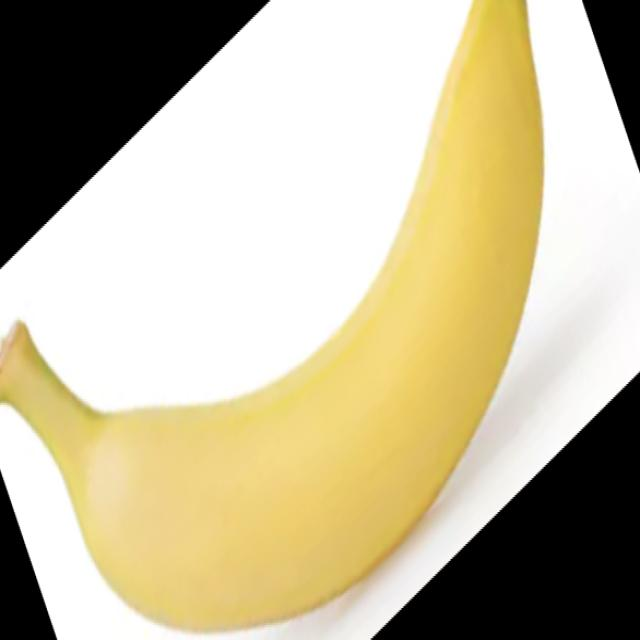god quality banana: (0, 2, 543, 630)
